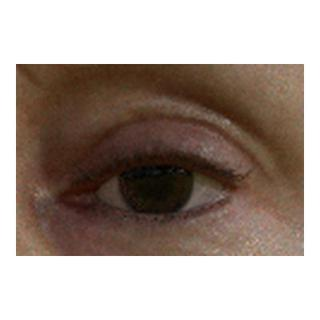pupil: (140, 166, 170, 196)
